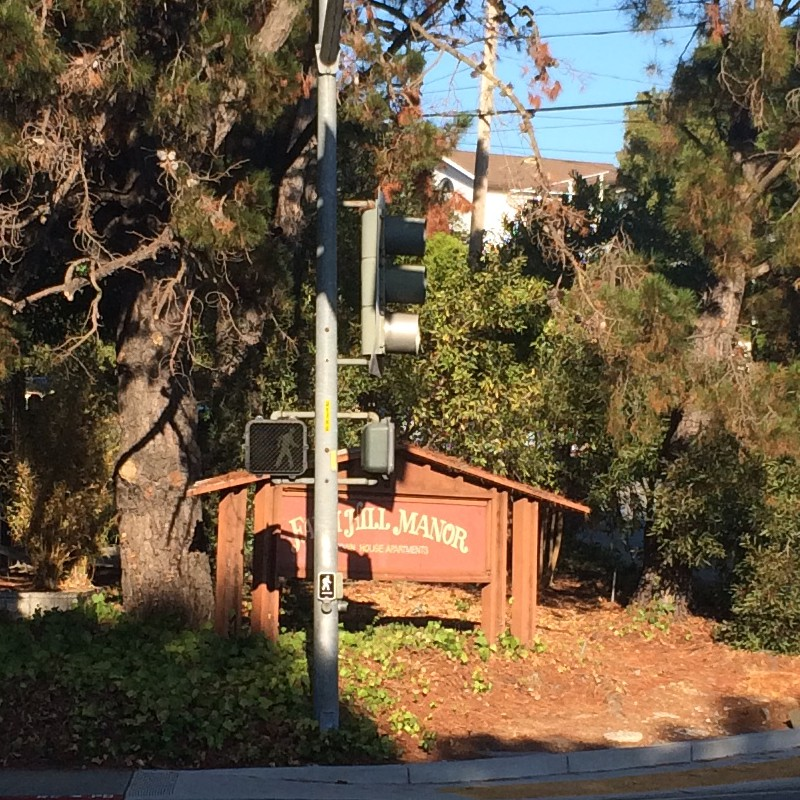go: (243, 419, 316, 479)
